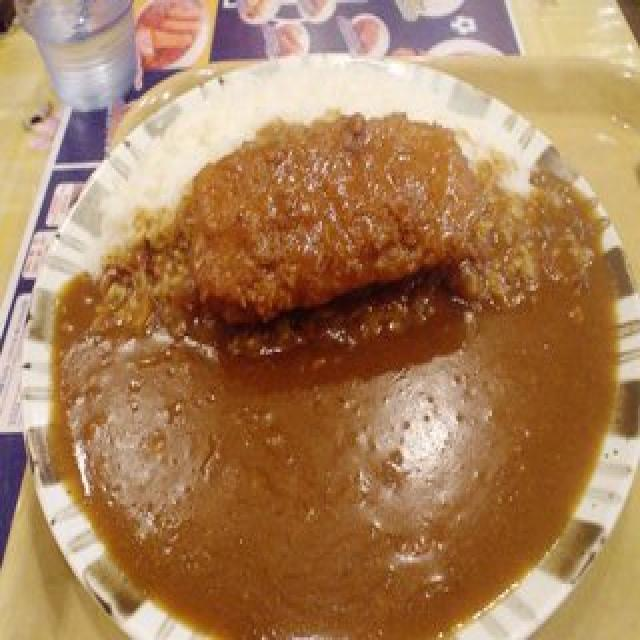猪肉菜式: (20, 53, 640, 640)
